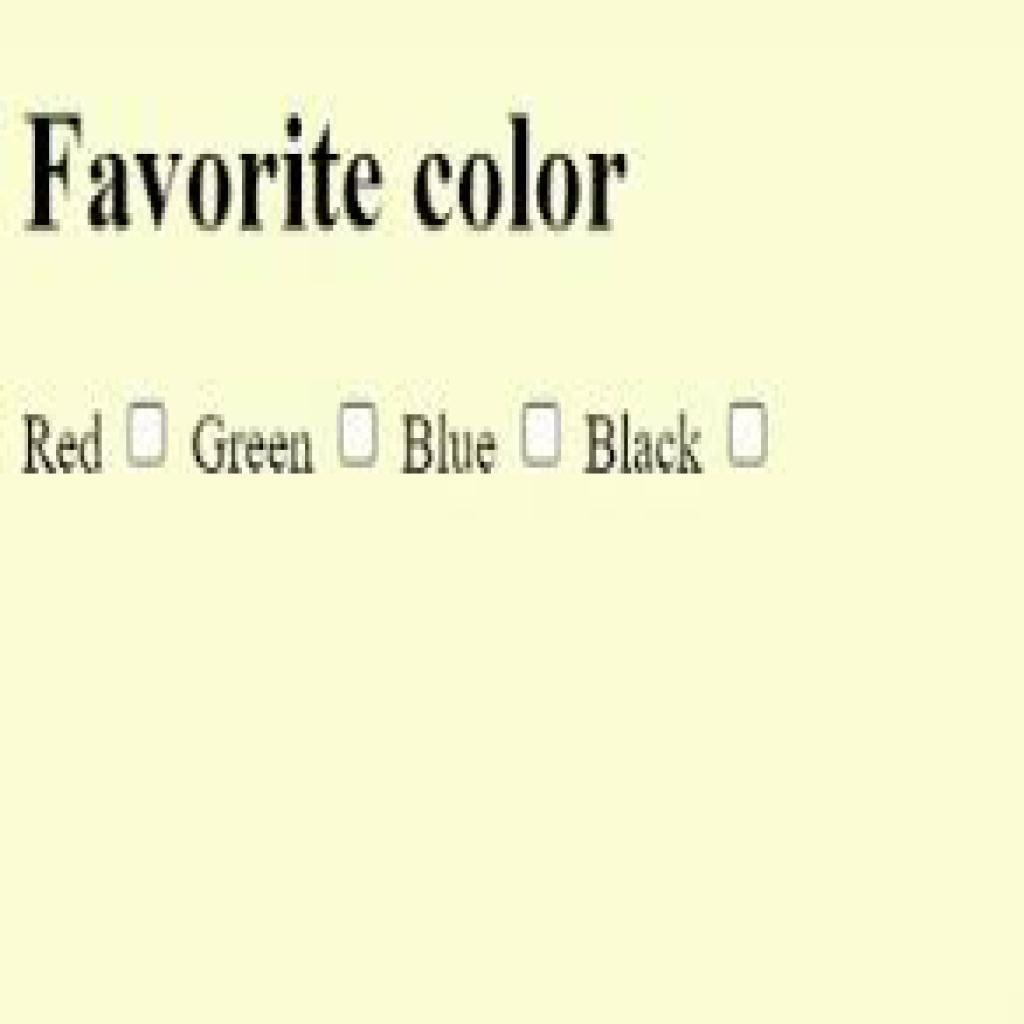checkbox: (521, 402, 561, 464), (342, 402, 380, 466), (129, 403, 164, 466), (730, 405, 766, 464)
label: (580, 410, 711, 484), (184, 413, 319, 479), (399, 410, 499, 485), (20, 402, 109, 482)
